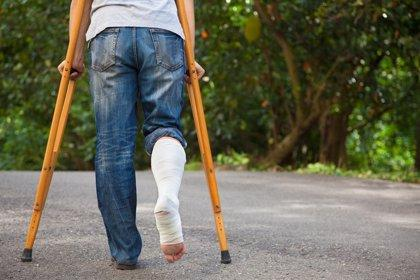crutches: (21, 0, 231, 270)
